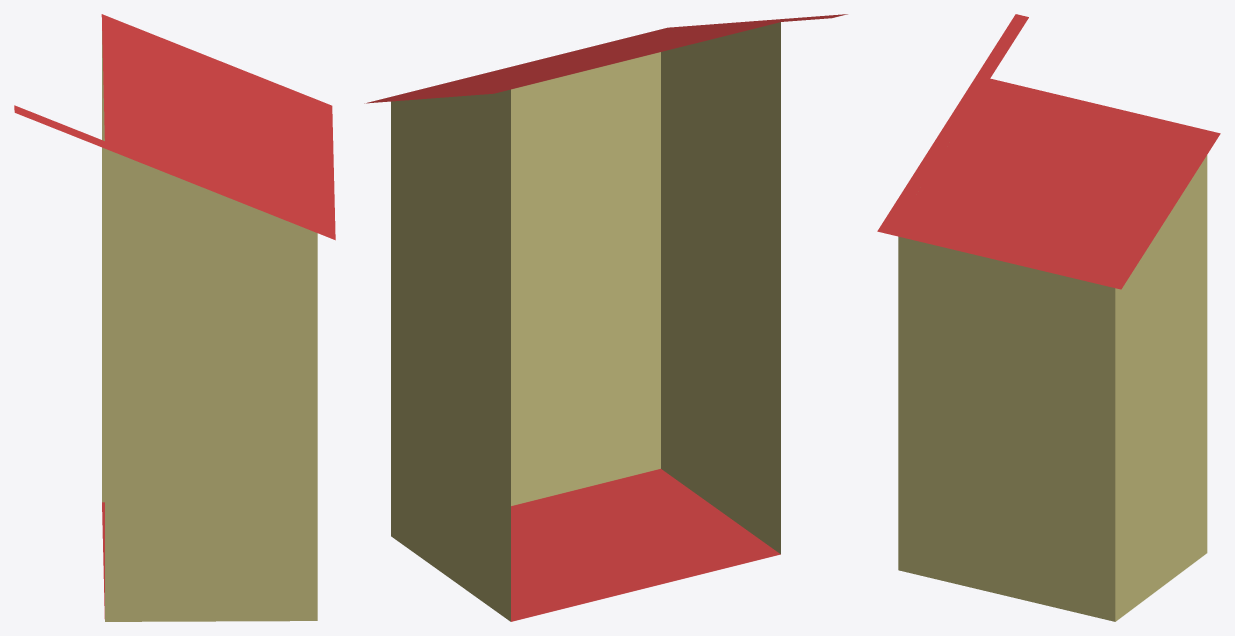
3 renders of one model, left to right at view 1: azimuth 30°, elevation 25°; view 2: azimuth 150°, elevation 25°; view 3: azimuth 270°, elevation 25°, orthographic. The views are drawn at different scales.
Bounding box in the file's own units: 6.16 × 5.52 × 8.06.
